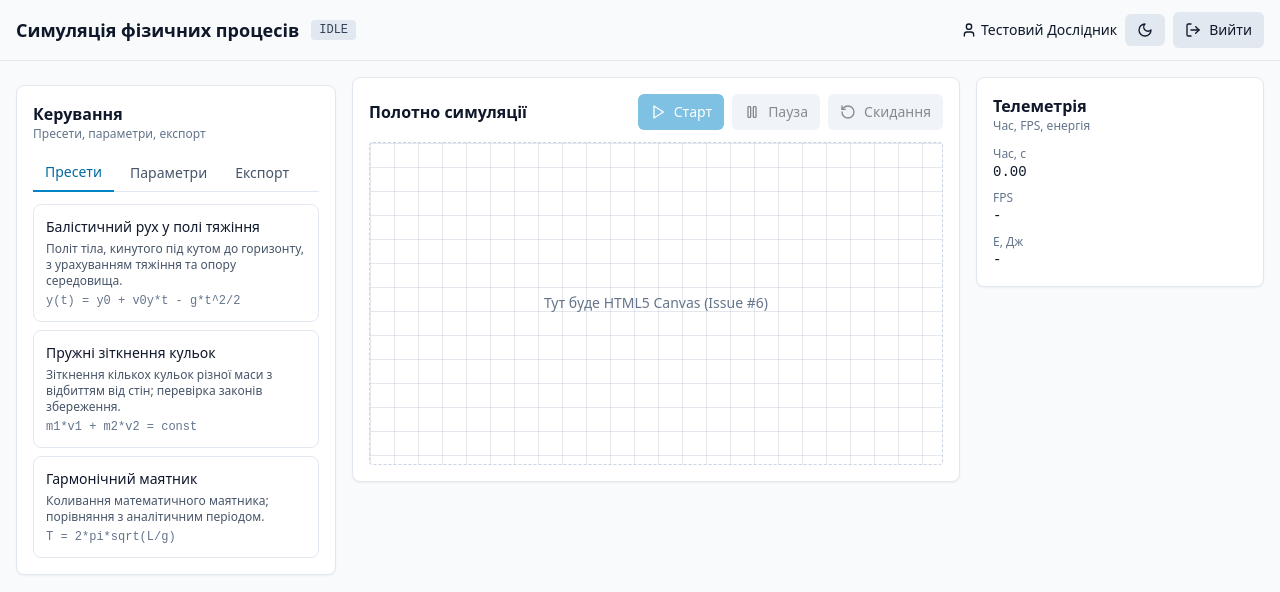
Test: Інтеграція автомата з App › вибір іншого пресету під час симуляції повертає READY
Click the button "Гармонічний маятник" at (176, 507), box [33, 456, 319, 558]
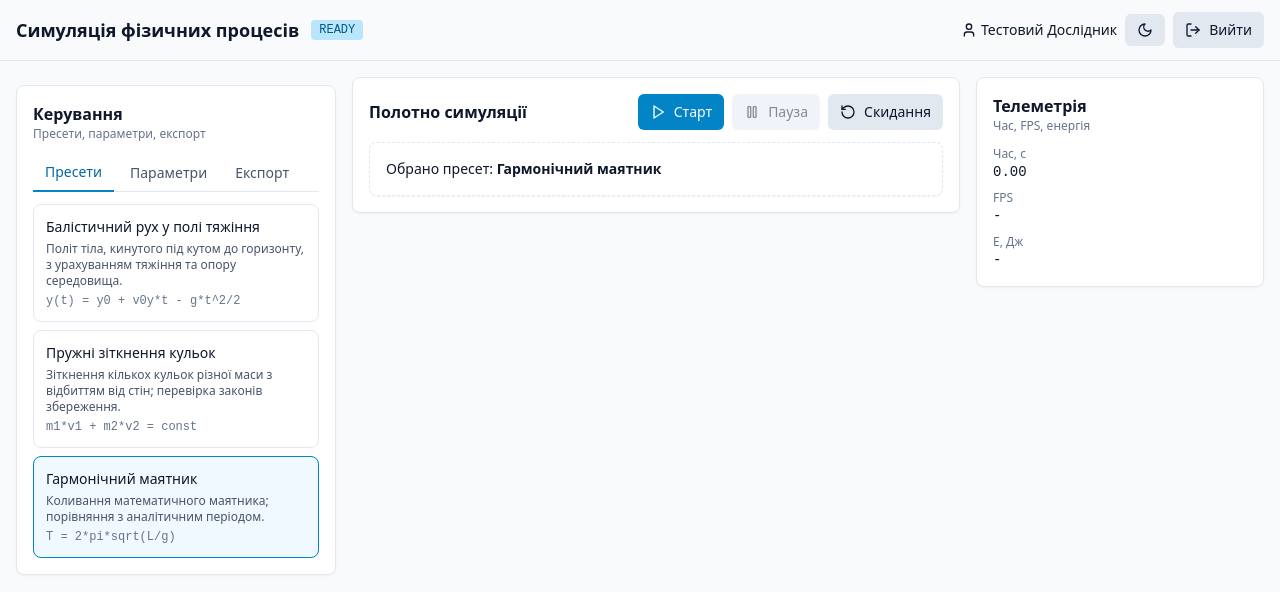
Click the button "Старт" at (681, 112), box [638, 94, 724, 130]
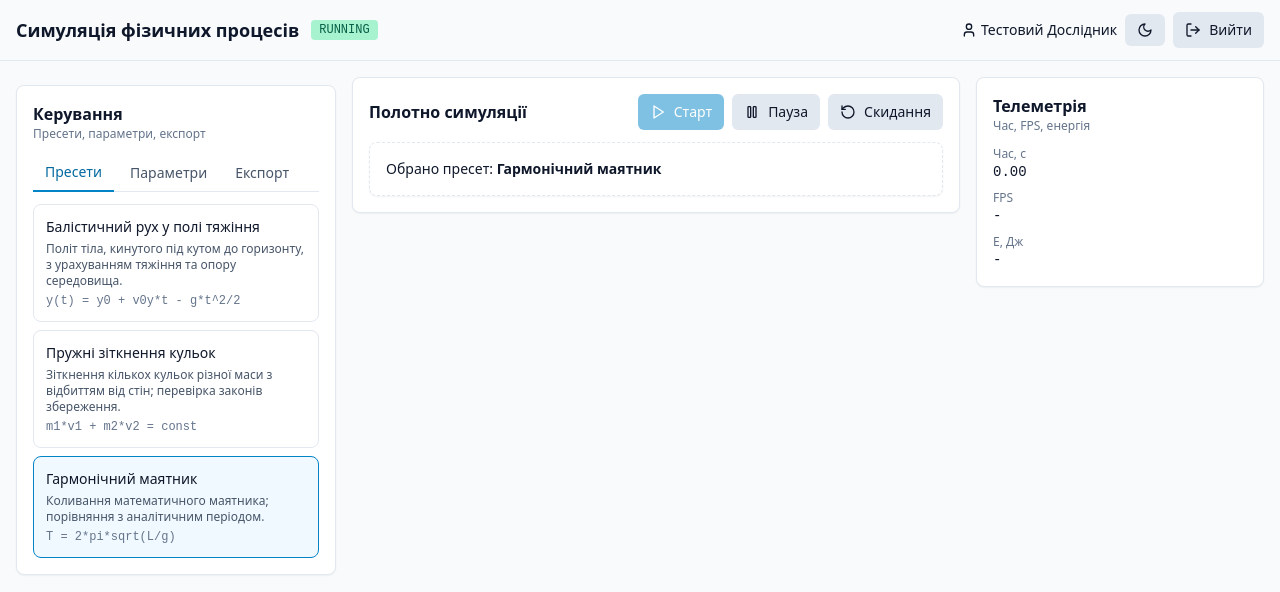
Check: the text with test id "simulation-status" reads "RUNNING", box [319, 23, 370, 37]
Click the button "Пружні зіткнення" at (176, 389), box [33, 330, 319, 448]
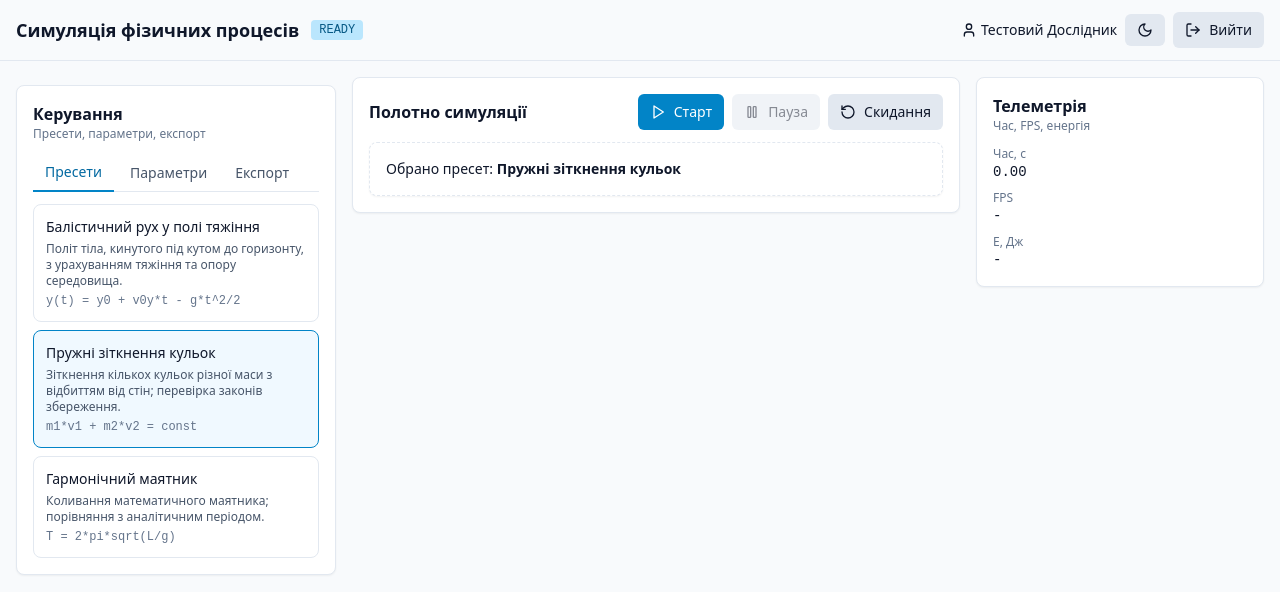
Check: the text with test id "simulation-status" reads "READY", box [319, 23, 355, 37]
Check: the text with test id "selected-preset" reads "Пружні зіткнення кульок", box [497, 159, 681, 178]
